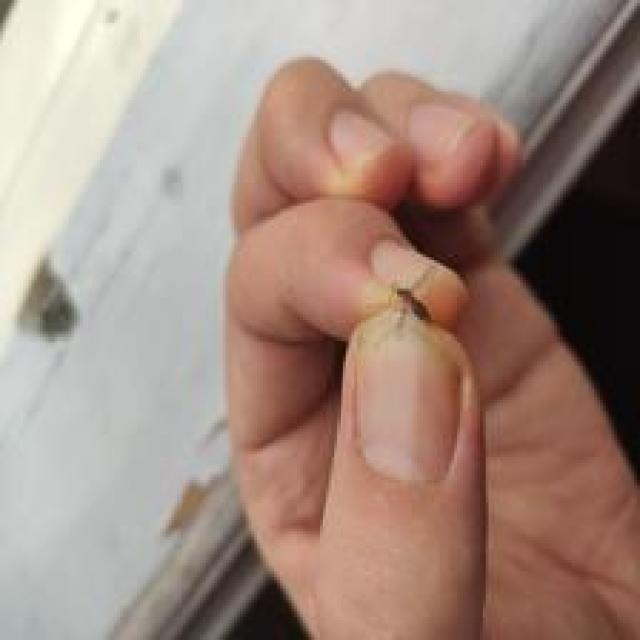Culex: (87, 0, 639, 640)
